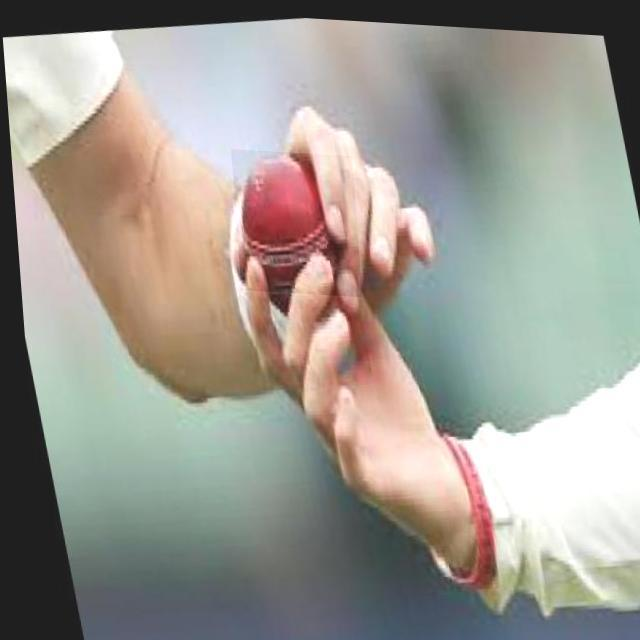-: (229, 146, 358, 293)
